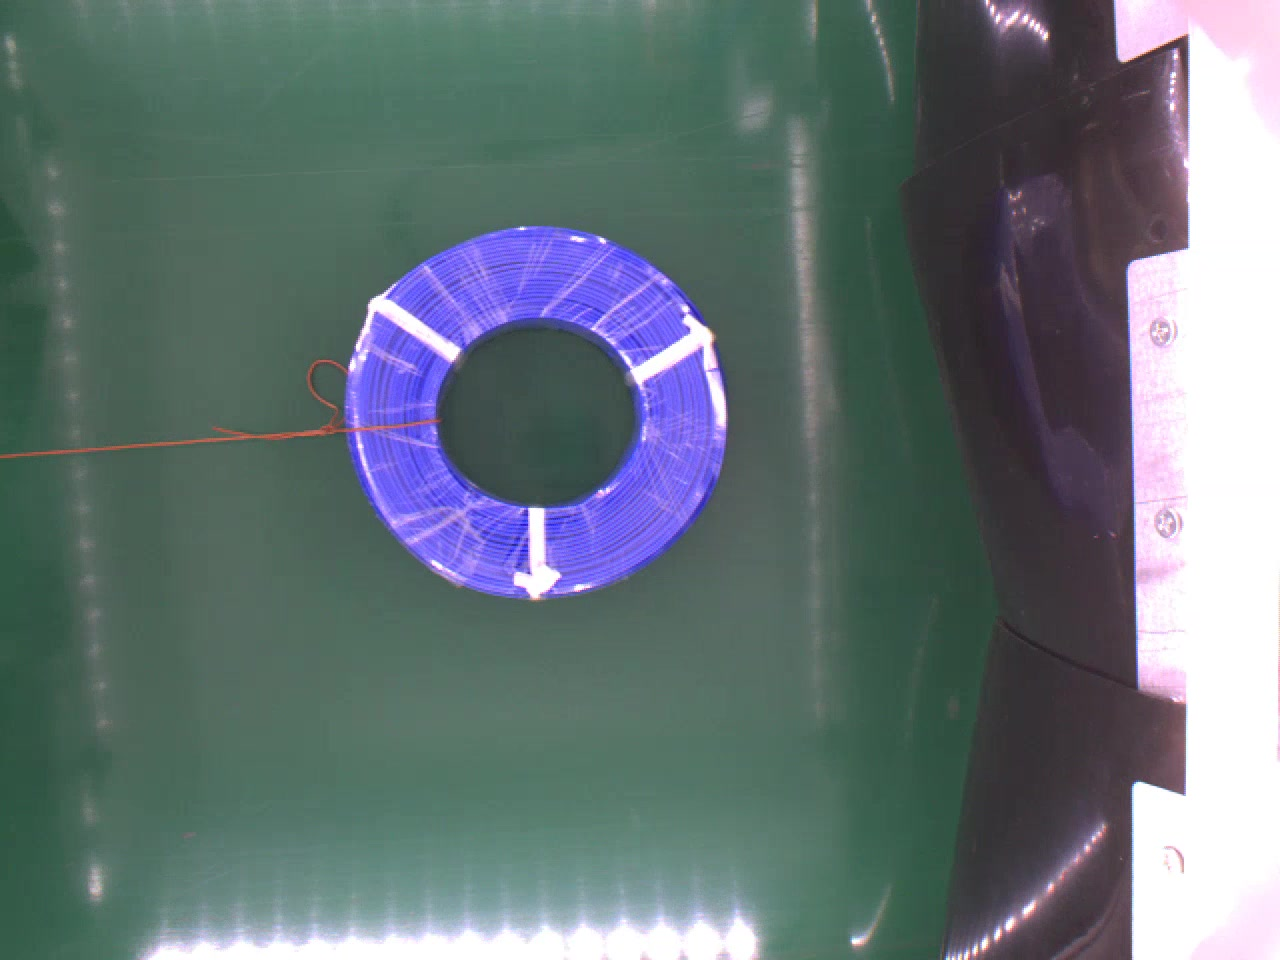blue: (344, 225, 725, 594)
